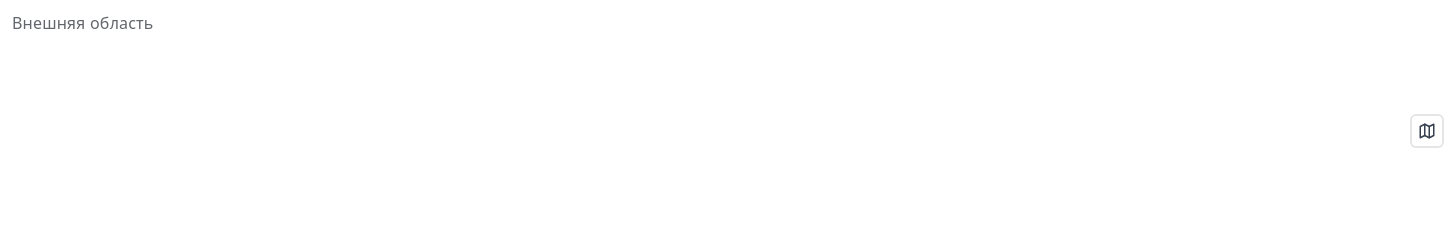
Test case: LayerSwitcher component › 8. Закрывает выпадающее меню при клике вне компонента (click-outside)
Note: Открываем меню
Click the button with class "layer-switcher__toggle" at [1427, 131], box x1=1412 y1=116 x2=1442 y2=146
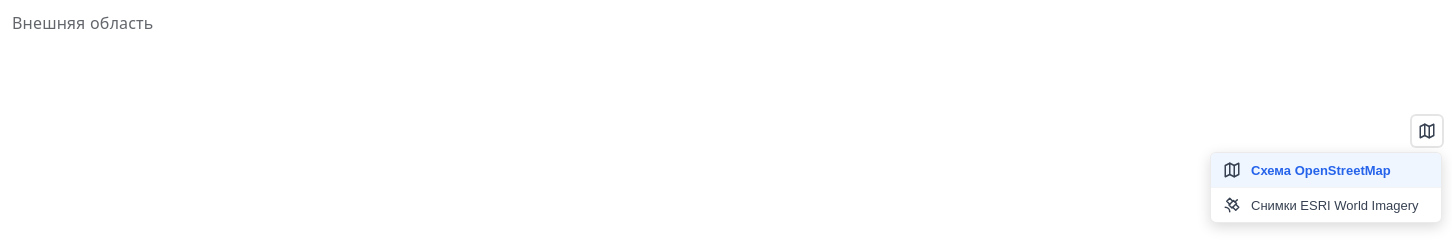
Note: Кликаем вне компонента
Press the mouse on the text with test id "outside-area" at [83, 23], box x1=12 y1=13 x2=154 y2=33
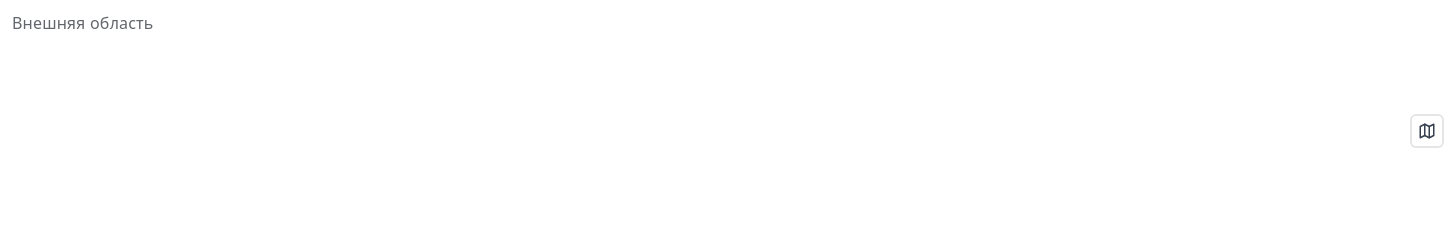
Check: the element with class "layer-switcher__menu" does not have class "layer-switcher__menu--visible"
